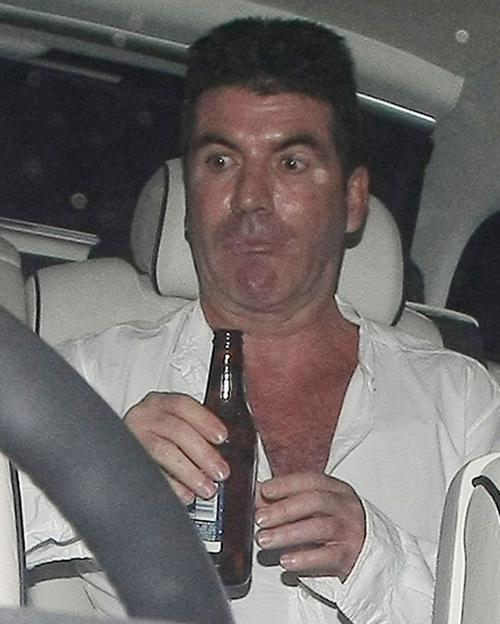Drunk: (193, 83, 342, 315)
